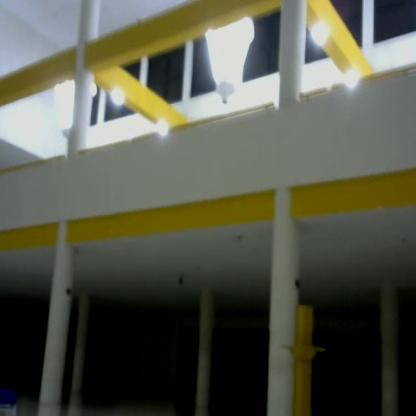pole: (276, 298, 329, 416)
